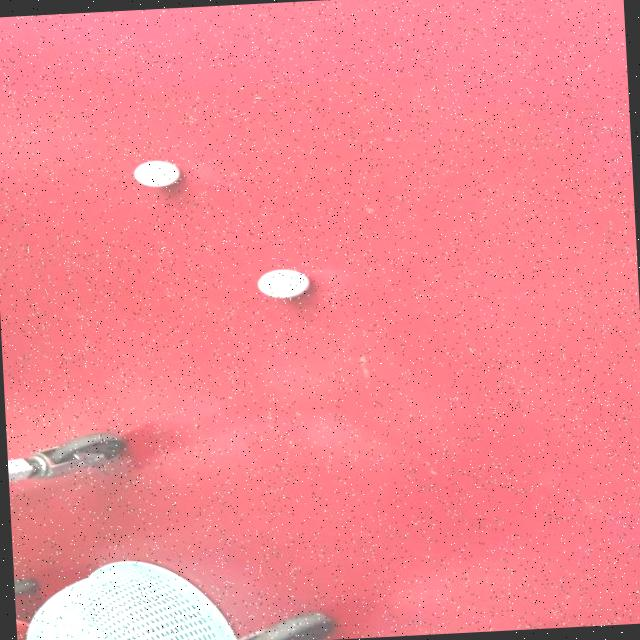ping-pong-ball: (254, 267, 312, 301), (130, 160, 180, 190)
